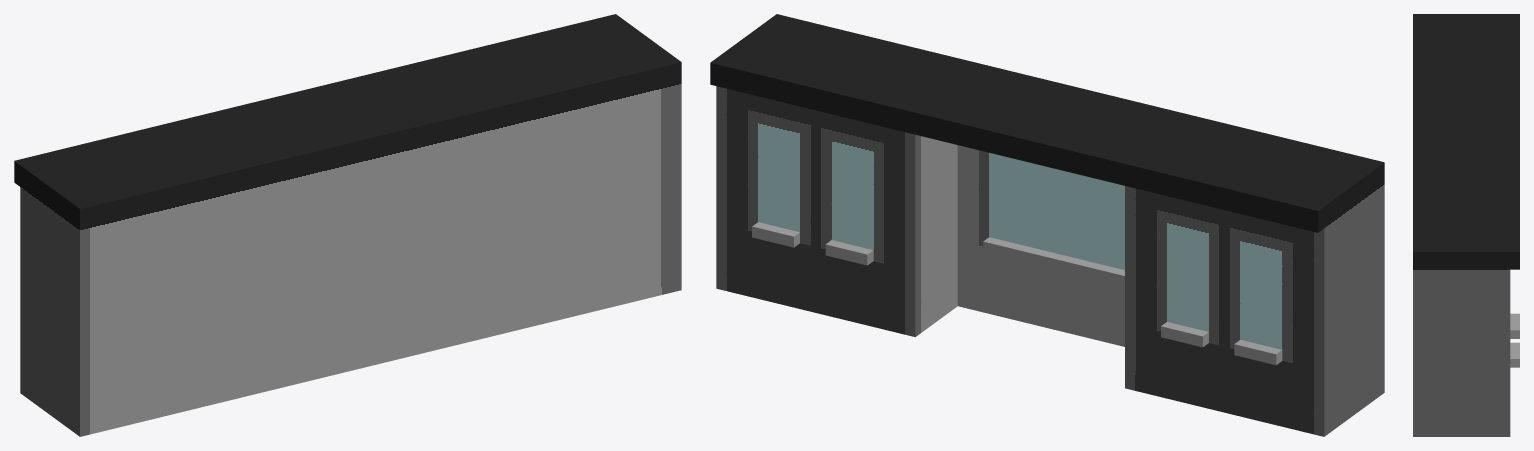
File: obj_floor2b.dae
3 views of the same model, side by side, from view 1: azimuth 30°, elevation 25°; view 2: azimuth 150°, elevation 25°; view 3: azimuth 270°, elevation 25° (orthographic). The views are drawn at different scales.
Parts seen in each view (by area): view 1: obj_floor2b; view 2: obj_floor2b; view 3: obj_floor2b.
Part boxes in pixels (x1=…): obj_floor2b: x1=14, y1=14, x2=681, y2=436; obj_floor2b: x1=710, y1=14, x2=1384, y2=436; obj_floor2b: x1=1413, y1=14, x2=1519, y2=436.
Bounding box in the file's own units: 5.8 × 1.1 × 2.1.
Materials: 1 (1 with a texture image).
